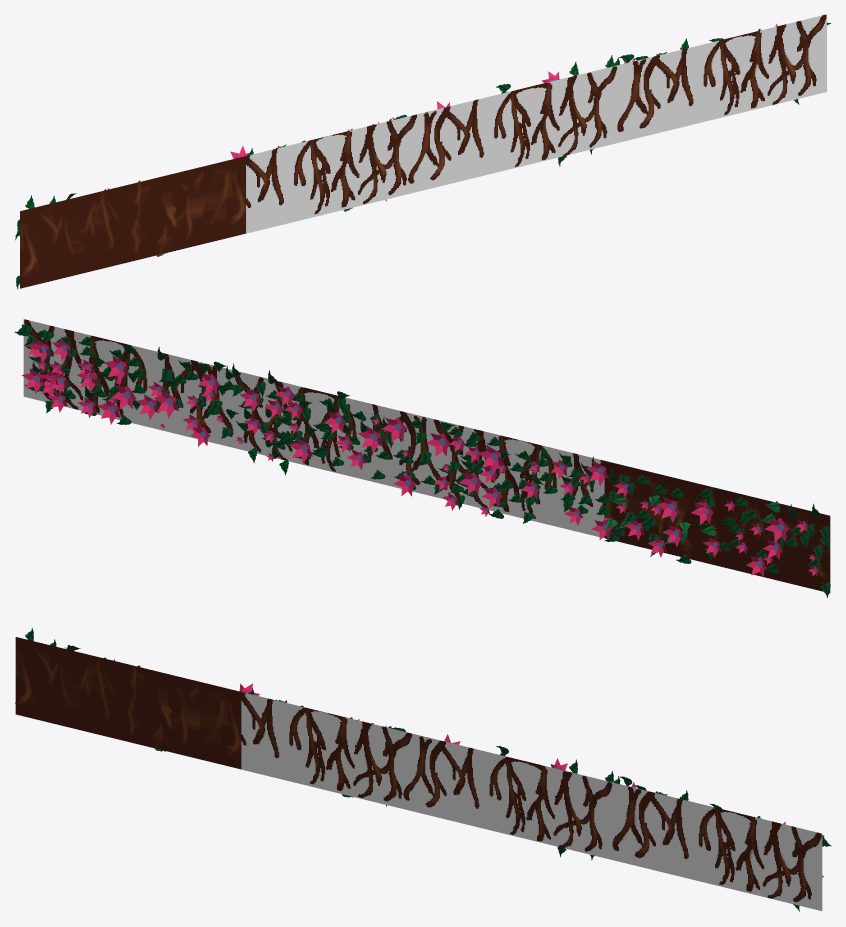
File: VINE1.FBX
3 views of the same model, one above another, from view 1: azimuth 30°, elevation 25°; view 2: azimuth 150°, elevation 25°; view 3: azimuth 330°, elevation 25° (orthographic).
Parts seen in each view (by area): view 1: vine; view 2: vine; view 3: vine.
Part boxes in pixels (box(x1,y1,x2,y2)): vine: box(15, 14, 830, 289); vine: box(14, 319, 830, 597); vine: box(15, 628, 831, 911).
Size of the model in its own units: 11.99 by 1.44 by 0.2603.
